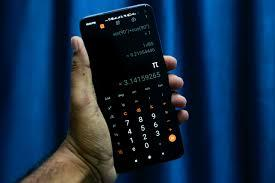Calculator: (101, 59, 180, 158)
